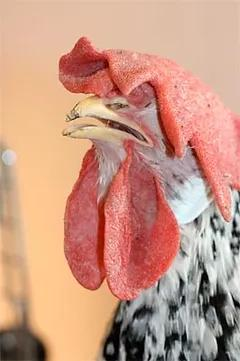AbNormal: (57, 36, 240, 211)
